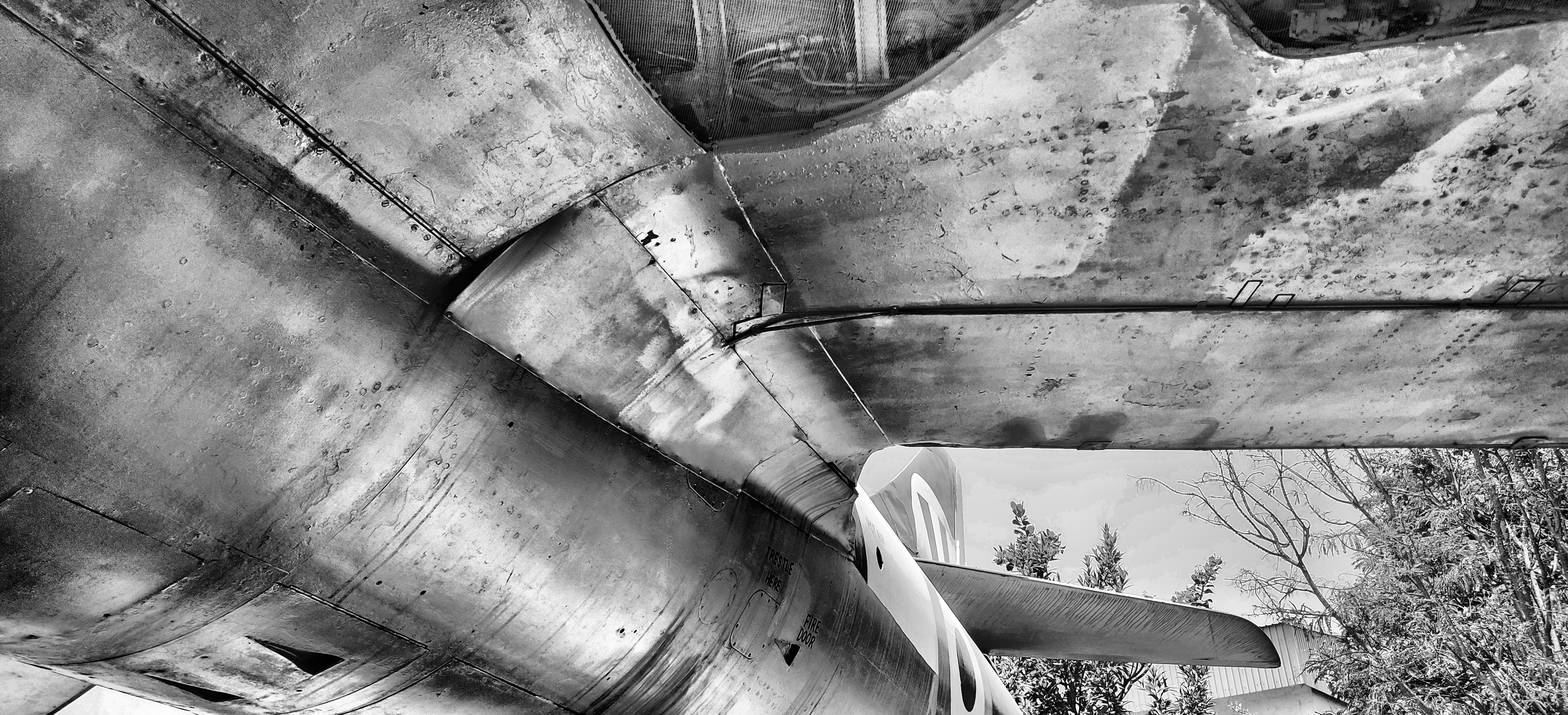dent: (1111, 5, 1209, 204), (1004, 249, 1088, 281), (694, 393, 746, 436), (661, 316, 694, 377), (694, 269, 741, 285), (1484, 430, 1531, 443), (794, 425, 809, 443), (847, 536, 856, 556), (762, 643, 765, 648), (748, 653, 751, 658), (733, 642, 736, 646)
missing-head: (735, 623, 740, 629), (760, 591, 764, 597), (721, 501, 725, 507), (711, 501, 715, 507), (693, 485, 697, 490), (687, 470, 691, 475), (775, 604, 778, 609), (768, 598, 771, 603)
paint-peel-off: (1123, 383, 1200, 407), (1033, 377, 1064, 398), (640, 229, 659, 246), (1484, 144, 1498, 157), (1098, 122, 1109, 129)
scratch: (412, 176, 437, 206), (543, 242, 566, 257), (507, 570, 514, 585)
